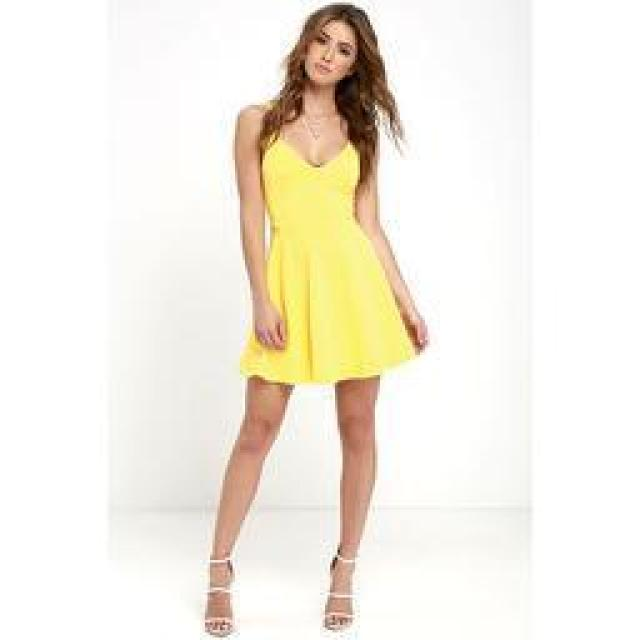dress: (242, 108, 416, 388)
